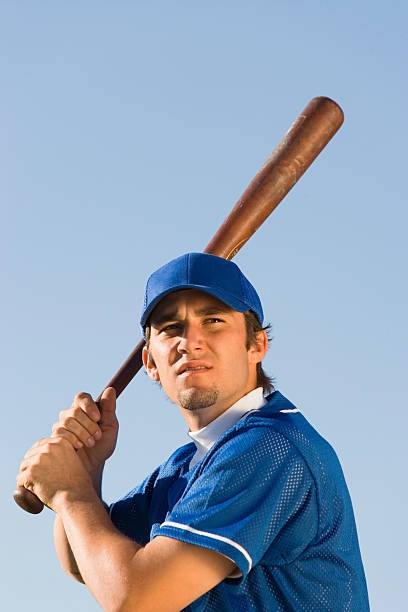bita: (197, 93, 334, 291)
